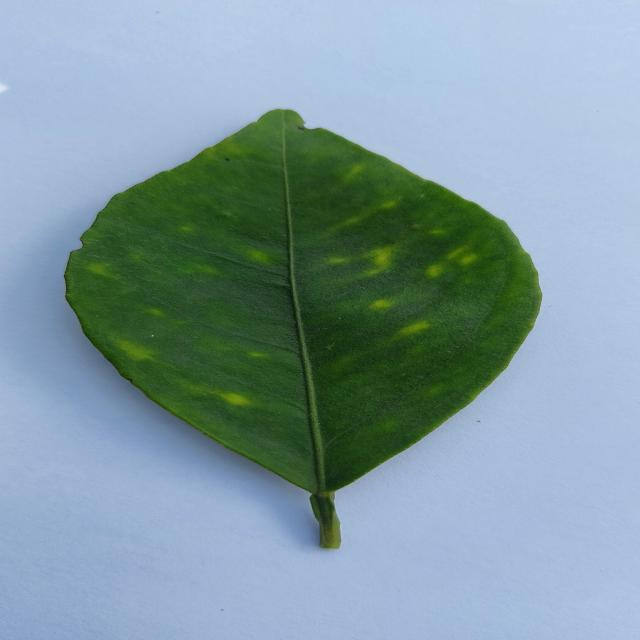greening: (66, 110, 540, 548)
